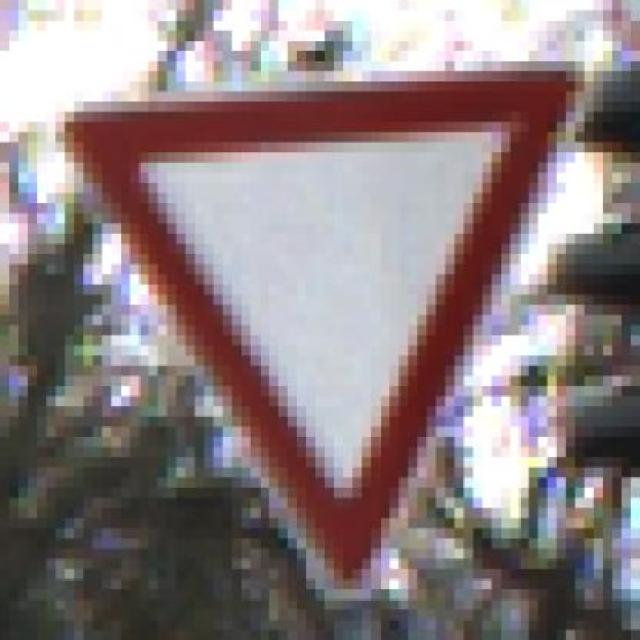Give Way: (35, 48, 611, 598)
